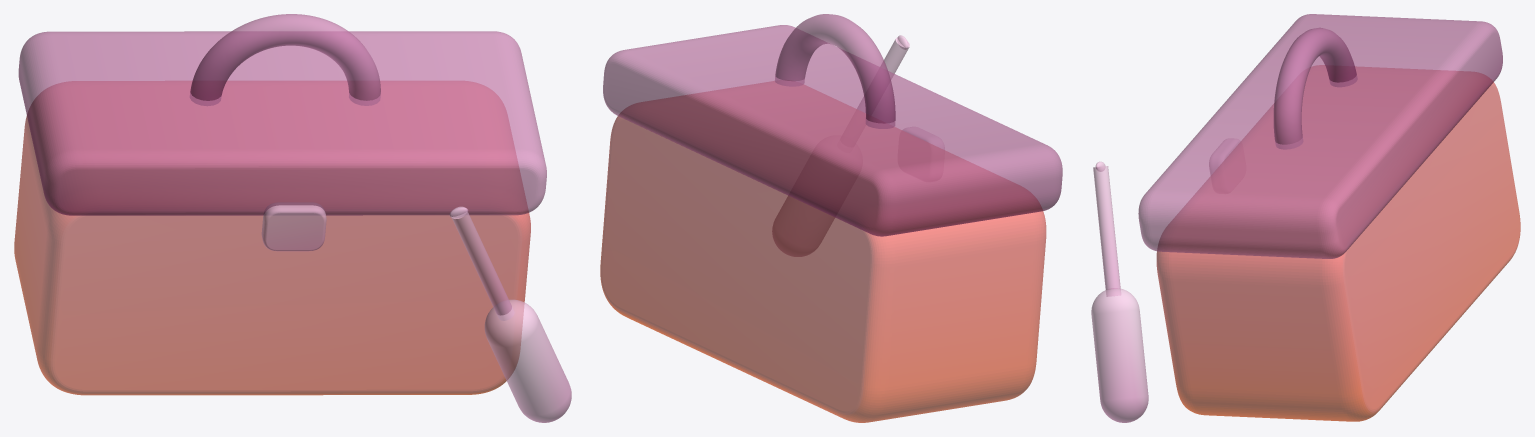
Rendered from toolbox.glb.
The picture shows the model from 3 angles, left to right: view 1: azimuth 30°, elevation 25°; view 2: azimuth 150°, elevation 25°; view 3: azimuth 270°, elevation 25°; orthographic projection. The views are drawn at different scales.
Parts seen in each view (by area): view 1: body, lid, handle, screwdriver_handle, latch, screwdriver_shaft; view 2: body, lid, handle, screwdriver_handle, screwdriver_shaft; view 3: body, lid, screwdriver_handle, handle, screwdriver_shaft, latch.
Part boxes in pixels (bbox=[...]): body: bbox=[14, 81, 530, 395]; lid: bbox=[18, 31, 546, 215]; handle: bbox=[190, 14, 380, 105]; screwdriver_handle: bbox=[484, 299, 571, 422]; latch: bbox=[261, 203, 326, 251]; screwdriver_shaft: bbox=[451, 206, 513, 320]; body: bbox=[600, 81, 1046, 422]; lid: bbox=[603, 25, 1062, 236]; handle: bbox=[775, 14, 895, 128]; screwdriver_handle: bbox=[772, 196, 834, 256]; screwdriver_shaft: bbox=[857, 37, 909, 112]; body: bbox=[1156, 65, 1520, 421]; lid: bbox=[1138, 14, 1502, 258]; screwdriver_handle: bbox=[1091, 288, 1148, 422]; handle: bbox=[1273, 27, 1356, 148]; screwdriver_shaft: bbox=[1093, 166, 1120, 296]; latch: bbox=[1209, 139, 1240, 174].
Bounding box in the file's own units: 0.8944 × 0.6538 × 0.792.
